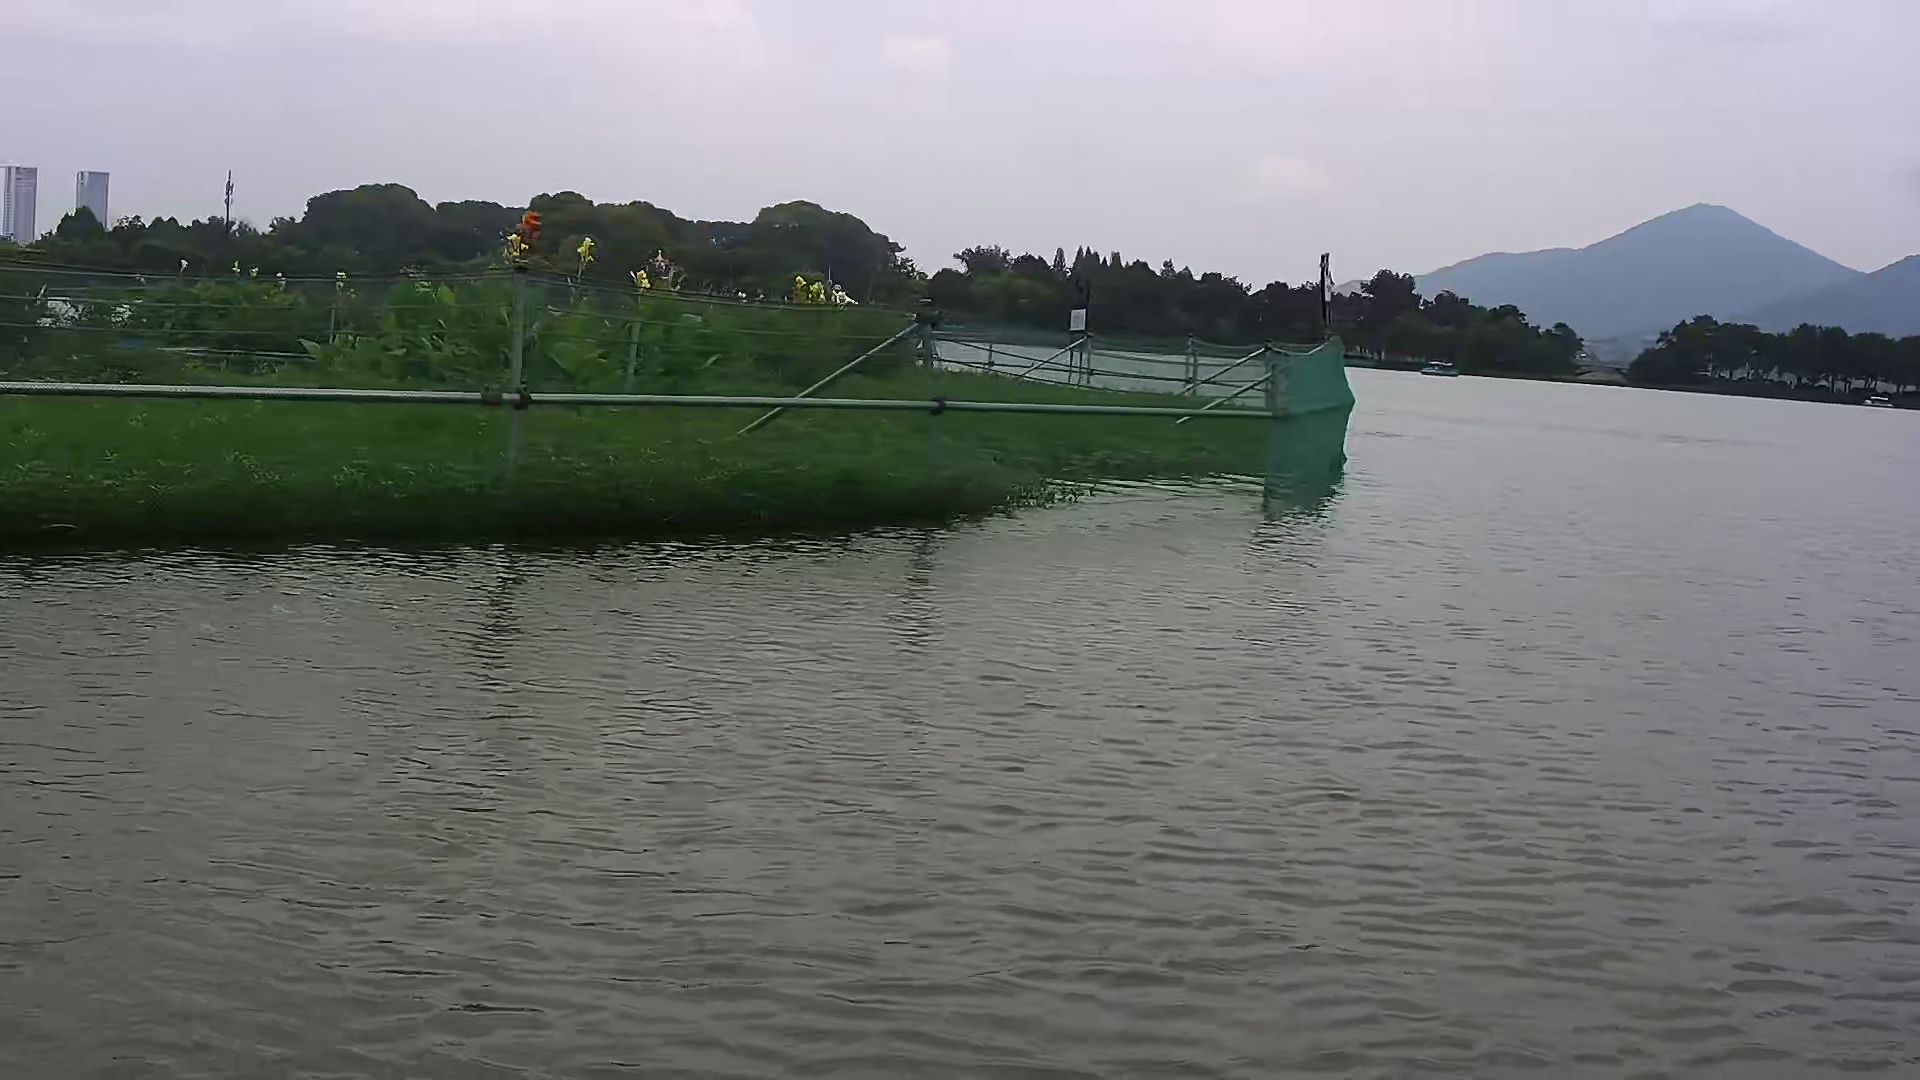boat: (1416, 349, 1466, 378), (1859, 389, 1905, 415)
